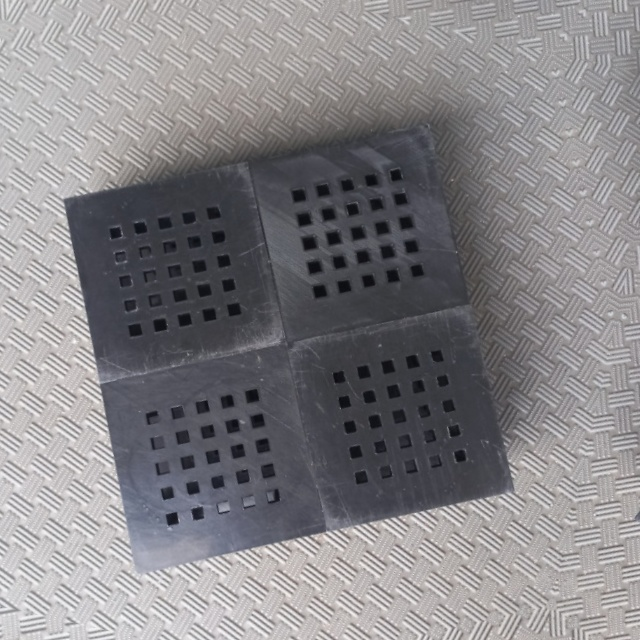pallet: (57, 125, 526, 581)
